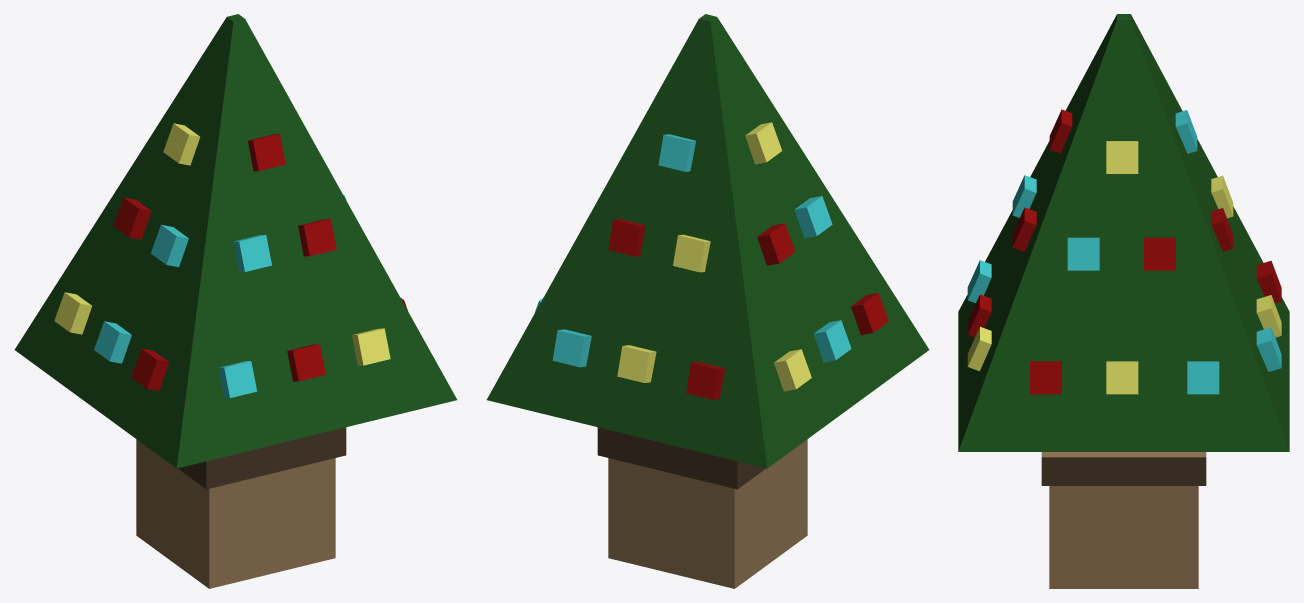
File: 036 Xmas_Tree.fbx
3 renders of one model, left to right at view 1: azimuth 30°, elevation 25°; view 2: azimuth 150°, elevation 25°; view 3: azimuth 270°, elevation 25°, orthographic. The views are drawn at different scales.
Visible parts, largest first — view 1: Lowpoly_Christmas_Pack_036:pCube18; view 2: Lowpoly_Christmas_Pack_036:pCube18; view 3: Lowpoly_Christmas_Pack_036:pCube18.
Boxes of the visible parts, x1=… form: Lowpoly_Christmas_Pack_036:pCube18: x1=14, y1=14, x2=457, y2=588; Lowpoly_Christmas_Pack_036:pCube18: x1=486, y1=14, x2=929, y2=588; Lowpoly_Christmas_Pack_036:pCube18: x1=958, y1=14, x2=1289, y2=588.
Bounding box in the file's own units: 1.67 × 3 × 1.67.
